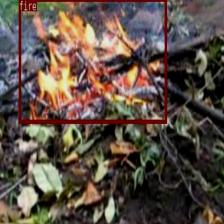fire: (18, 0, 165, 122)
